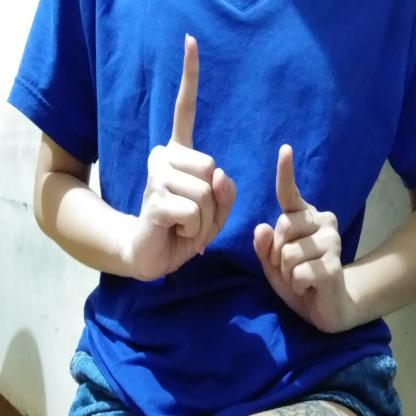morning: (131, 26, 348, 339)
